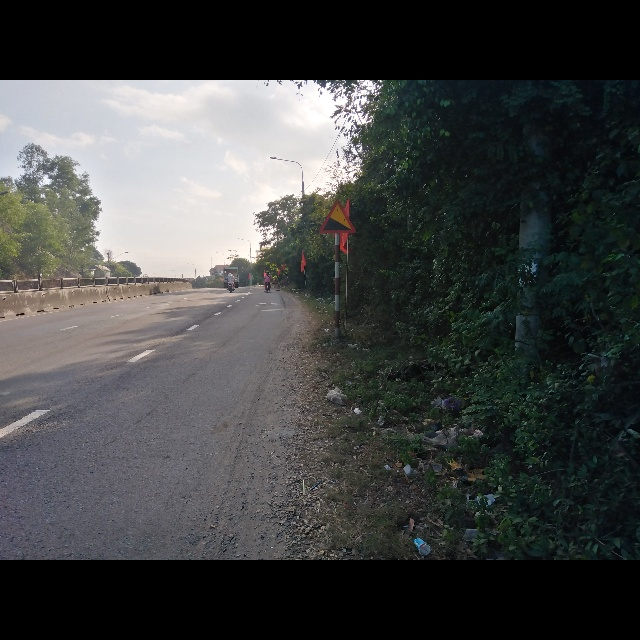Dốc lên nguy hiểm: (319, 202, 360, 234)
